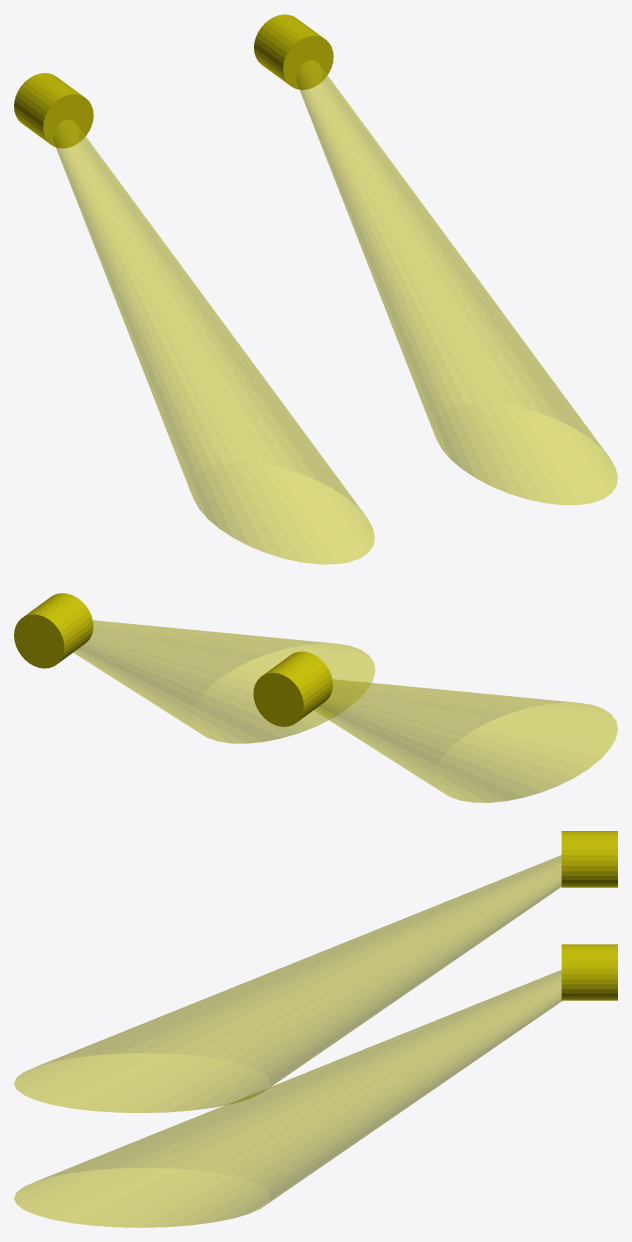
File: litlight.obj
3 views of the same model, one above another, from view 1: azimuth 30°, elevation 25°; view 2: azimuth 150°, elevation 25°; view 3: azimuth 270°, elevation 25° (orthographic). The views are drawn at different scales.
Visible parts, largest first — view 1: Projected_Light_Cylinder.003, Lit_Lights_Cylinder.000; view 2: Projected_Light_Cylinder.003, Lit_Lights_Cylinder.000; view 3: Projected_Light_Cylinder.003, Lit_Lights_Cylinder.000.
Part boxes in pixels (<box>): Projected_Light_Cylinder.003: <box>53,60,617,564</box>; Lit_Lights_Cylinder.000: <box>14,14,333,148</box>; Projected_Light_Cylinder.003: <box>73,620,617,802</box>; Lit_Lights_Cylinder.000: <box>14,593,332,726</box>; Projected_Light_Cylinder.003: <box>14,855,561,1227</box>; Lit_Lights_Cylinder.000: <box>561,831,617,1000</box>.
Size of the model in its own units: 4.71 by 3.15 by 6.88.
